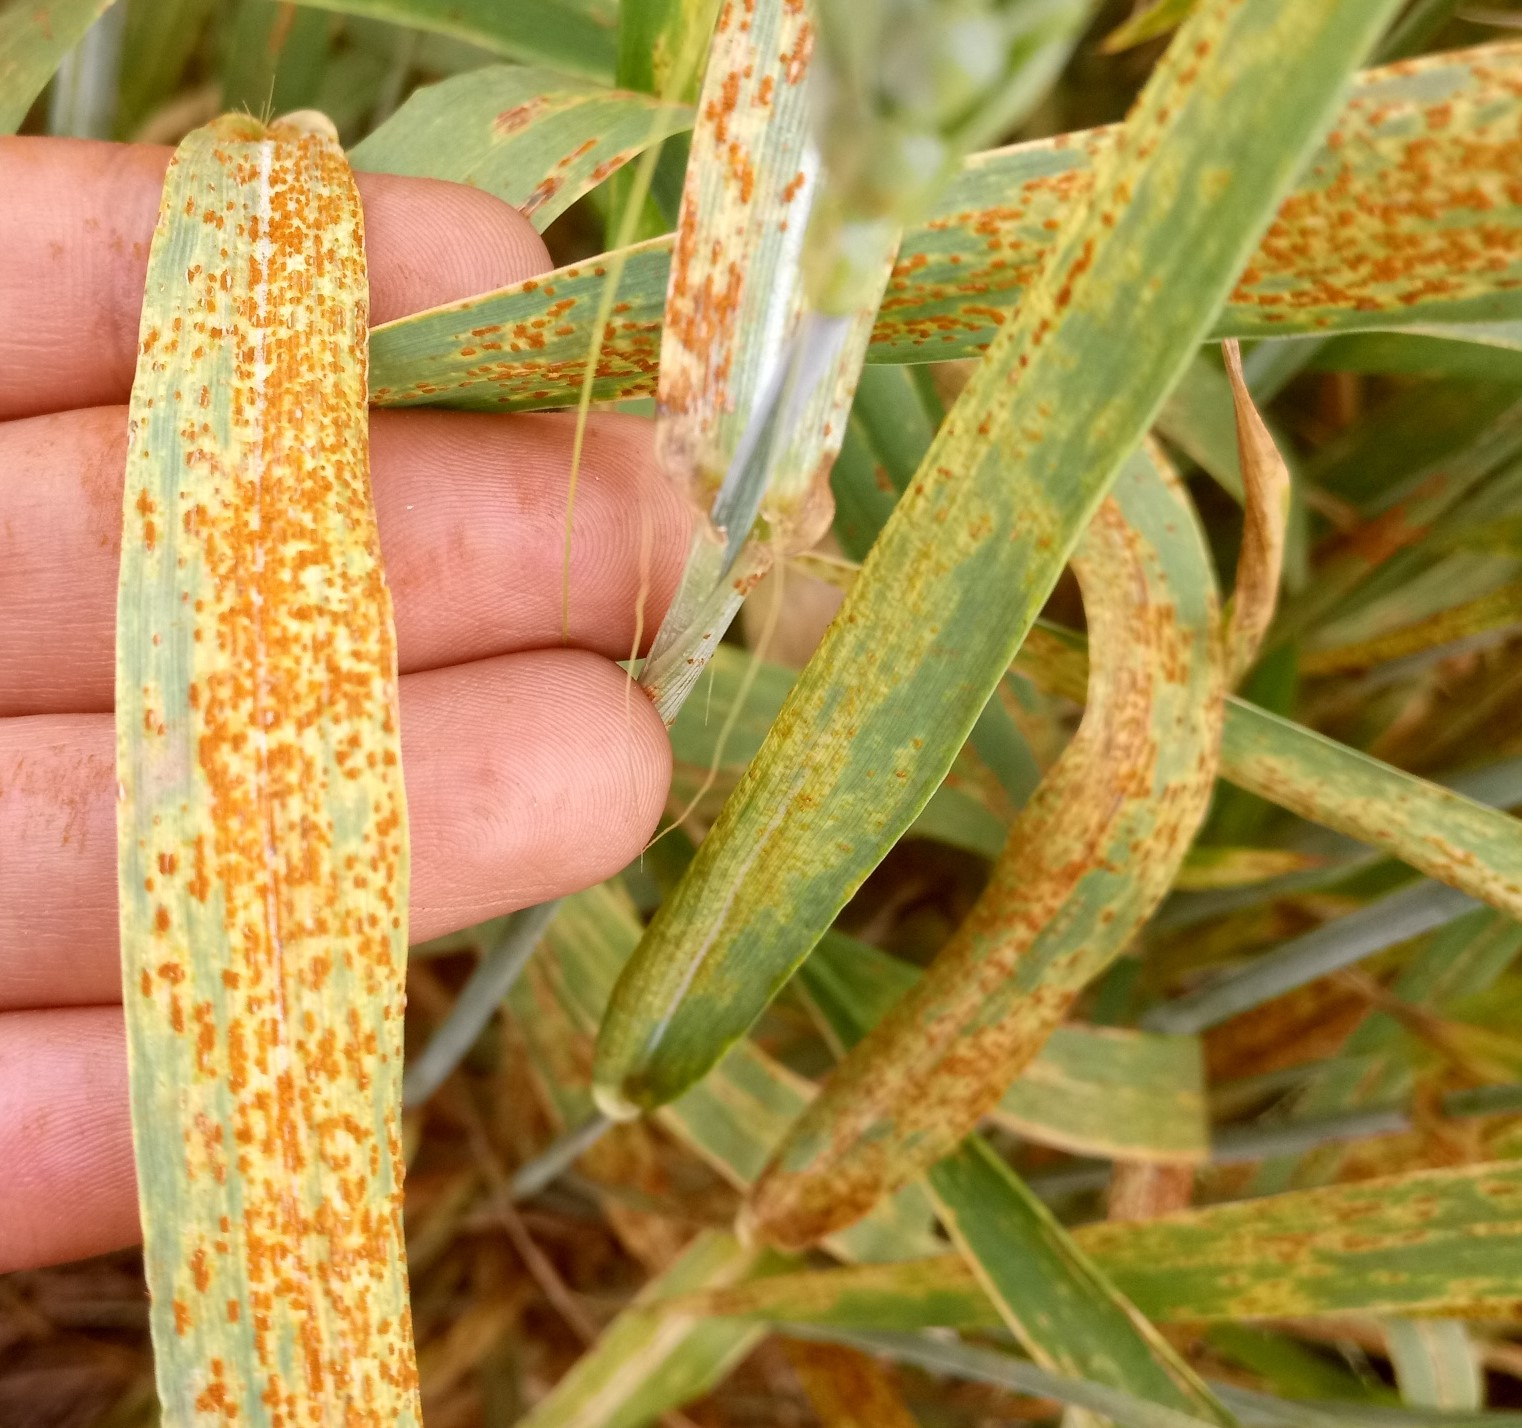Leaf Rust: (140, 200, 423, 1415)
